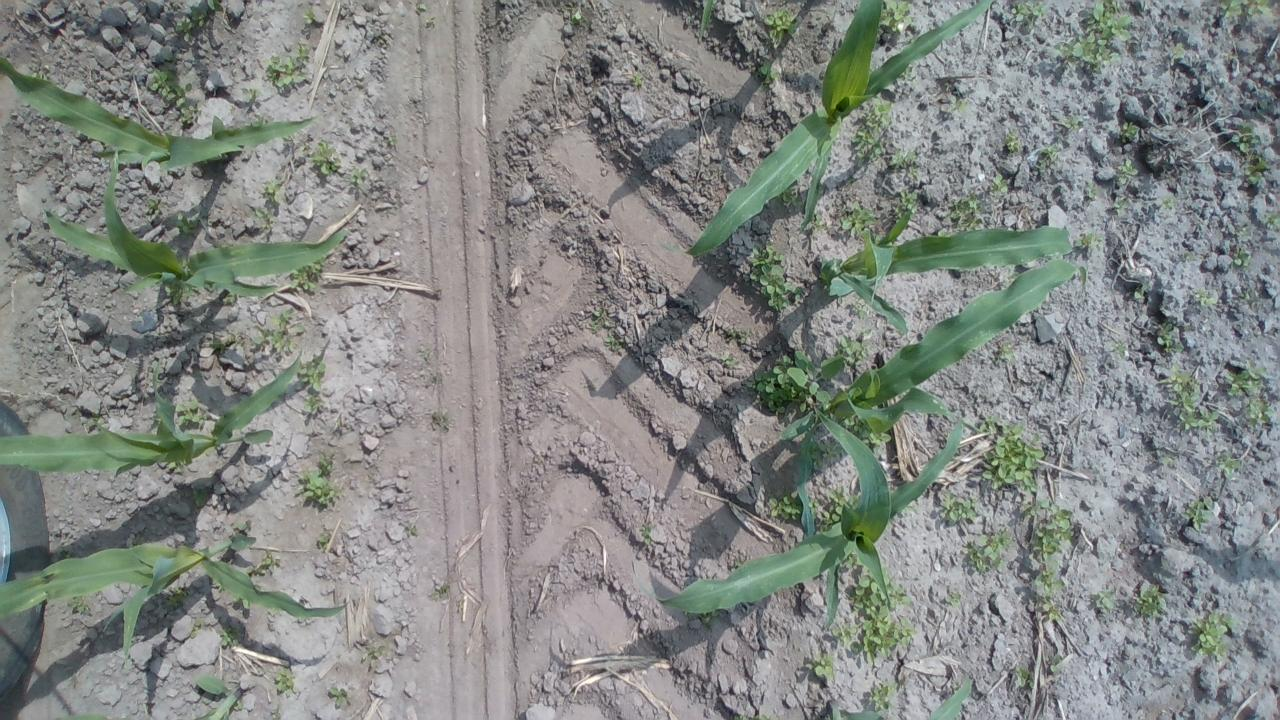Maize: (778, 262, 1086, 540), (666, 0, 992, 258), (640, 408, 964, 616), (34, 147, 353, 298), (0, 532, 351, 660), (0, 46, 317, 170), (0, 350, 303, 474), (814, 206, 1073, 332), (48, 676, 245, 720), (828, 676, 971, 720)
Weeds: (850, 566, 918, 664), (749, 352, 845, 415), (974, 413, 1046, 494), (1054, 0, 1134, 66), (749, 239, 804, 314), (1168, 362, 1218, 433), (148, 68, 202, 128), (1224, 364, 1274, 428), (852, 91, 893, 162), (295, 456, 347, 507), (250, 306, 305, 353), (262, 42, 312, 93), (1188, 607, 1234, 660), (1232, 124, 1272, 184), (840, 202, 885, 245), (819, 487, 860, 532), (968, 529, 1008, 575), (170, 0, 222, 33), (1036, 560, 1064, 620), (876, 0, 911, 40), (304, 139, 342, 174), (949, 193, 984, 230), (296, 351, 327, 392), (291, 256, 326, 291), (865, 678, 899, 714), (766, 8, 800, 41), (1182, 496, 1213, 532), (1134, 584, 1166, 618), (886, 148, 922, 178), (172, 398, 212, 424), (1219, 0, 1280, 17), (176, 210, 213, 237), (811, 438, 846, 466), (836, 334, 866, 366), (768, 494, 802, 521), (805, 652, 835, 682), (859, 426, 891, 454), (753, 63, 780, 92), (250, 554, 282, 578), (1156, 324, 1181, 352), (778, 184, 806, 208), (832, 623, 860, 647), (274, 666, 296, 696), (1010, 2, 1046, 20), (252, 208, 276, 234), (1038, 145, 1058, 176), (1216, 455, 1240, 480), (262, 176, 284, 202), (992, 340, 1014, 365), (302, 392, 326, 414), (842, 413, 864, 437), (190, 486, 210, 512), (726, 326, 752, 346), (1015, 663, 1035, 689), (207, 334, 239, 350), (165, 286, 193, 304), (1118, 160, 1138, 185), (898, 190, 918, 214), (592, 308, 610, 334), (1080, 231, 1104, 250), (220, 626, 241, 647), (166, 587, 189, 606), (1092, 590, 1115, 609), (328, 686, 352, 704), (1002, 130, 1021, 152), (700, 610, 720, 630), (1060, 114, 1080, 134), (841, 552, 864, 569), (812, 207, 828, 231), (70, 596, 91, 614), (1120, 121, 1138, 142), (604, 334, 624, 352), (1233, 246, 1250, 267), (88, 416, 110, 432), (350, 166, 369, 184), (991, 174, 1008, 194), (1197, 288, 1218, 304), (946, 97, 968, 112), (944, 591, 962, 609), (640, 523, 654, 546), (850, 304, 870, 320), (190, 616, 204, 638), (719, 352, 738, 368), (1264, 212, 1280, 231), (164, 460, 187, 473), (234, 596, 253, 610), (304, 6, 317, 26), (898, 63, 914, 79), (1049, 654, 1063, 672), (1170, 44, 1184, 62), (316, 534, 331, 550), (245, 87, 263, 100), (146, 196, 162, 210), (808, 496, 818, 518), (1114, 342, 1126, 360), (252, 113, 266, 127), (1162, 196, 1177, 209), (436, 583, 450, 596), (1114, 197, 1128, 210), (570, 12, 584, 25), (734, 715, 770, 720), (368, 646, 385, 656), (222, 291, 235, 304), (630, 74, 644, 86), (893, 206, 903, 222), (1086, 184, 1096, 200), (387, 134, 400, 146), (334, 416, 346, 428), (32, 72, 48, 81), (1238, 290, 1250, 302), (731, 560, 742, 572), (1133, 287, 1144, 299), (1239, 227, 1250, 238), (166, 54, 176, 66), (407, 524, 417, 536), (936, 229, 950, 237), (901, 503, 913, 512), (1182, 253, 1193, 262), (415, 4, 429, 11), (234, 700, 242, 710)
